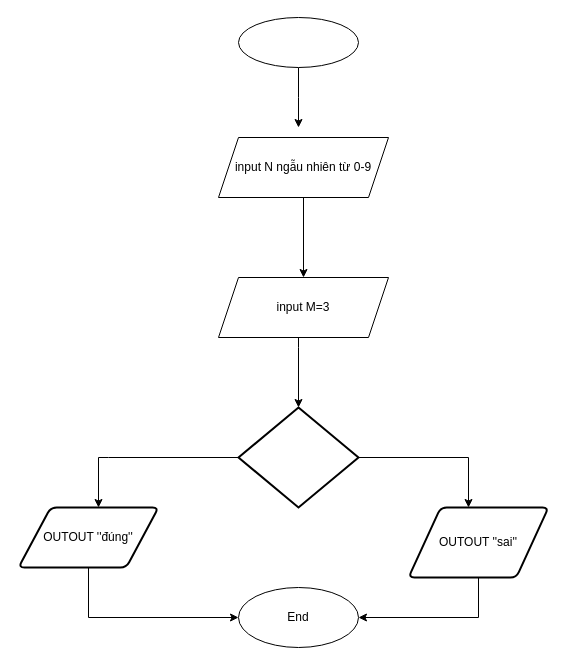
The diagram is 566 pixels wide and 665 high, and some of its shapes have lost their labels. The box of each missing label's shape, as (x1, y1, x2, y2) in pixels:
Begin: (238, 16, 358, 68)
N==M: (237, 406, 359, 508)
